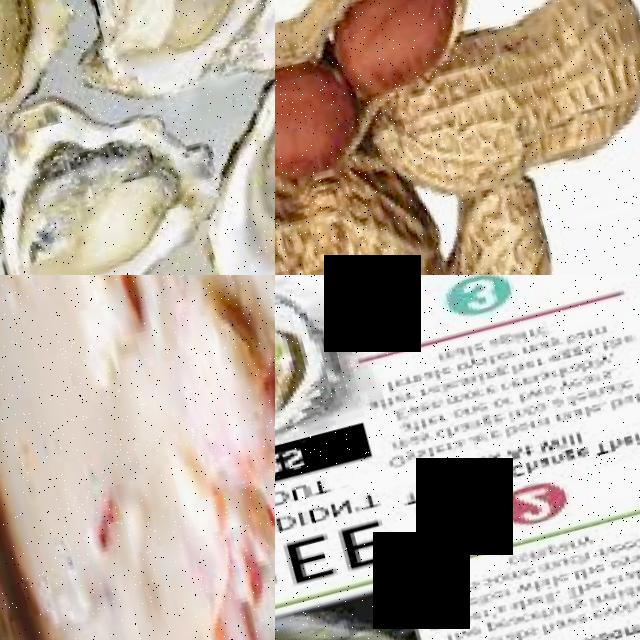oysters: (0, 90, 235, 275), (48, 0, 275, 107), (167, 52, 275, 275), (275, 288, 372, 471), (0, 0, 93, 148)
peanuts: (432, 0, 640, 192), (275, 149, 451, 275), (428, 172, 579, 275), (320, 0, 468, 102), (275, 52, 360, 189)
